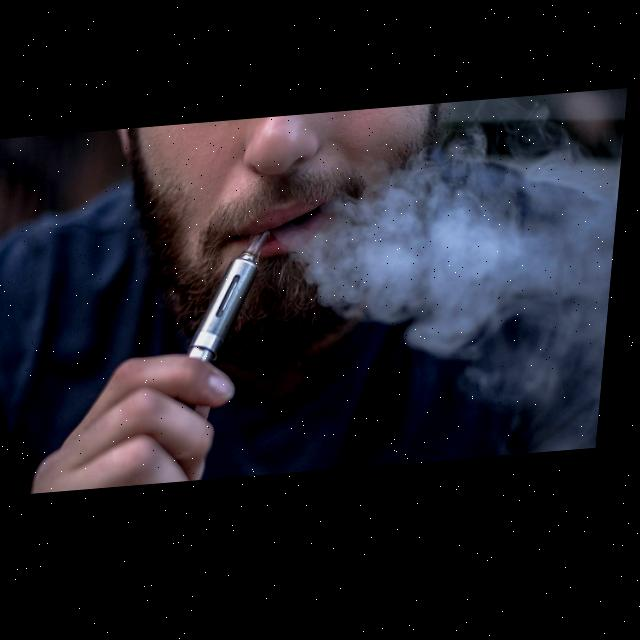vape: (190, 235, 278, 369)
